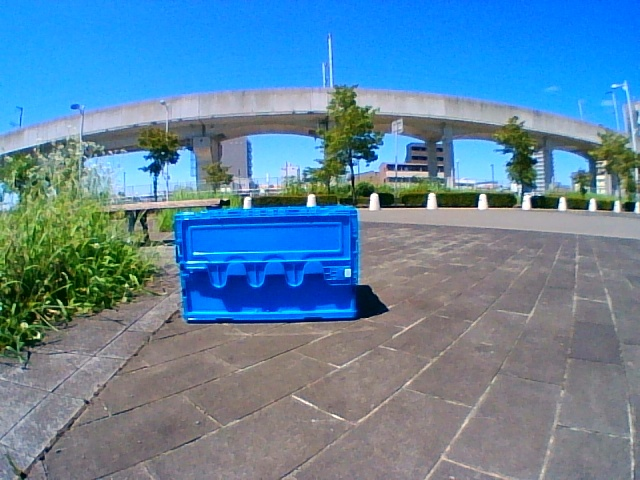blue_box: (183, 214, 356, 315)
